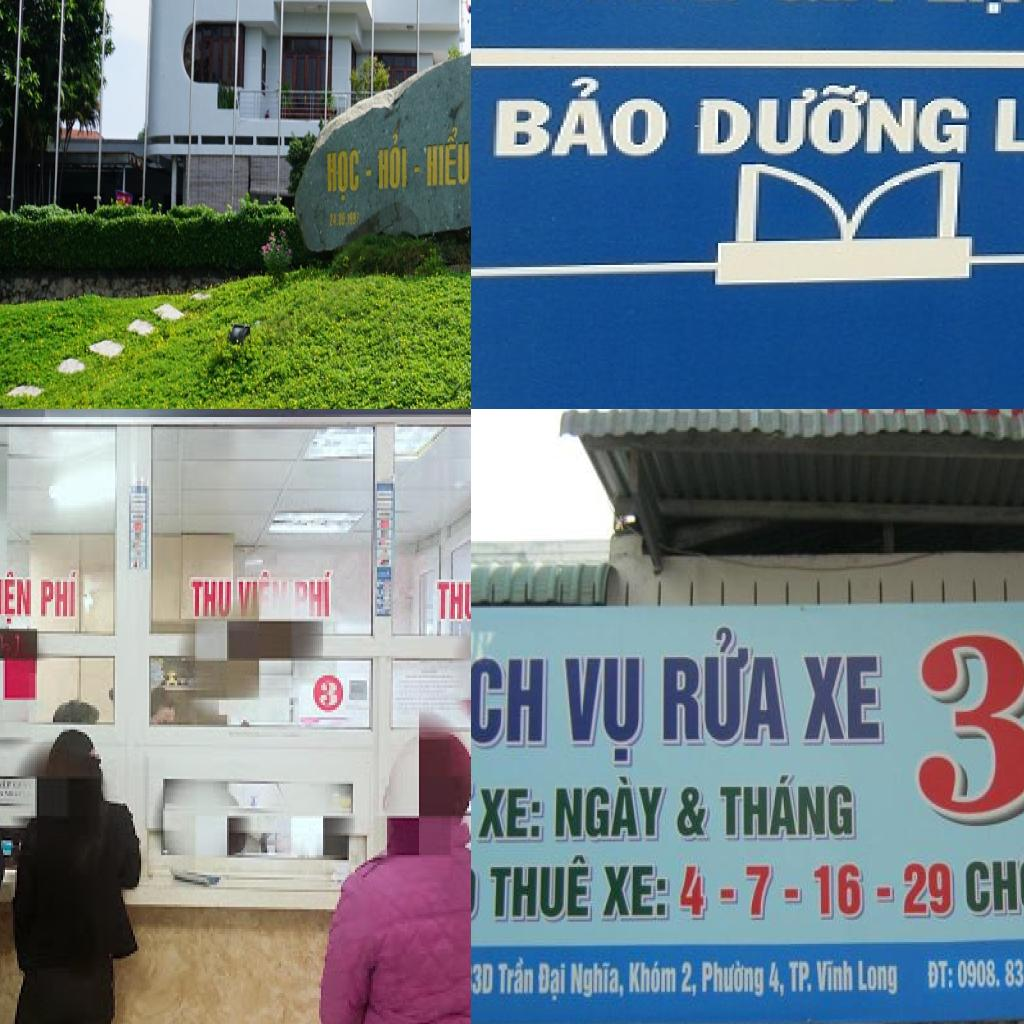text: (913, 631, 1024, 827), (698, 86, 972, 158), (662, 626, 790, 748), (490, 77, 674, 160), (720, 775, 857, 841), (564, 655, 644, 768), (471, 657, 548, 766), (554, 773, 672, 843), (802, 654, 885, 746), (488, 854, 593, 924), (966, 838, 1024, 918), (600, 864, 670, 922), (476, 787, 544, 843), (902, 860, 956, 920), (425, 123, 471, 189), (814, 862, 864, 920), (325, 145, 374, 203), (377, 130, 421, 194), (700, 961, 764, 998), (956, 956, 1024, 990), (570, 962, 627, 1002), (675, 784, 710, 842), (295, 570, 337, 618), (629, 959, 678, 1000), (0, 569, 35, 626), (675, 864, 709, 922), (41, 572, 81, 621), (191, 577, 235, 621), (746, 865, 774, 922), (857, 959, 899, 997), (497, 957, 536, 997), (437, 582, 471, 624), (816, 960, 856, 994), (537, 959, 567, 1004), (237, 580, 261, 622), (925, 959, 954, 992), (788, 961, 813, 995), (319, 678, 341, 715), (680, 959, 700, 999), (471, 962, 494, 995), (719, 888, 739, 906), (783, 886, 803, 904), (875, 886, 894, 903)
